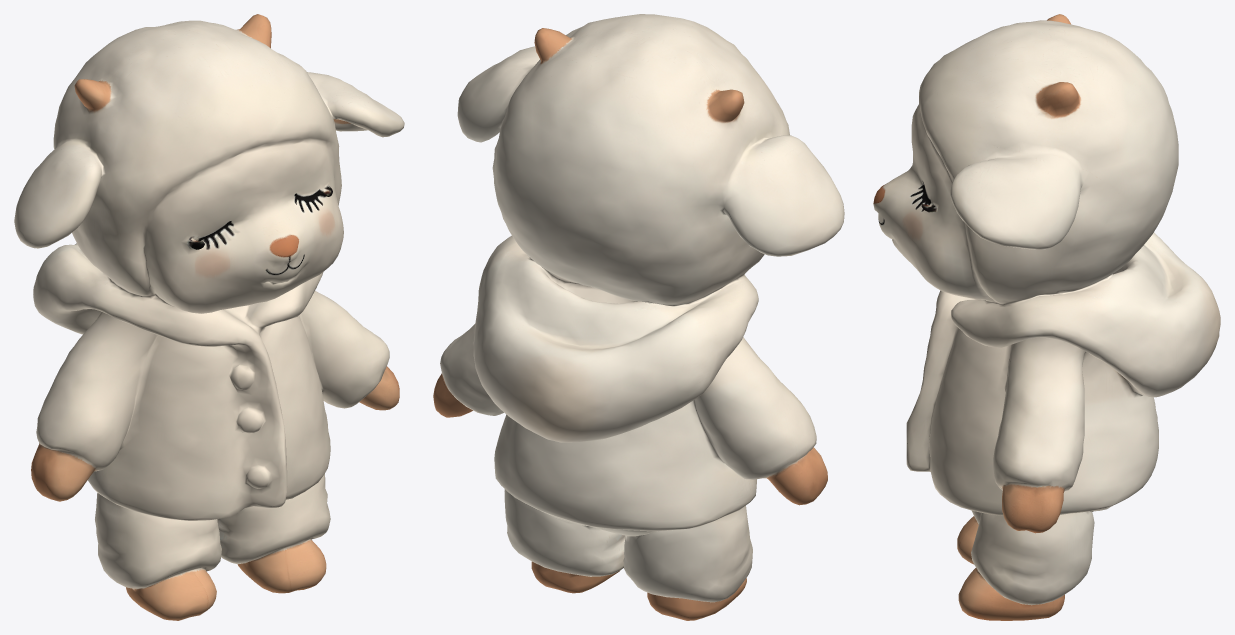
File: lamb_keeper.glb
3 views of the same model, side by side, from view 1: azimuth 30°, elevation 25°; view 2: azimuth 150°, elevation 25°; view 3: azimuth 270°, elevation 25° (orthographic). The views are drawn at different scales.
Bounding box in the file's own units: 1.35 × 1.91 × 1.1.
1 material, 1 textured.
